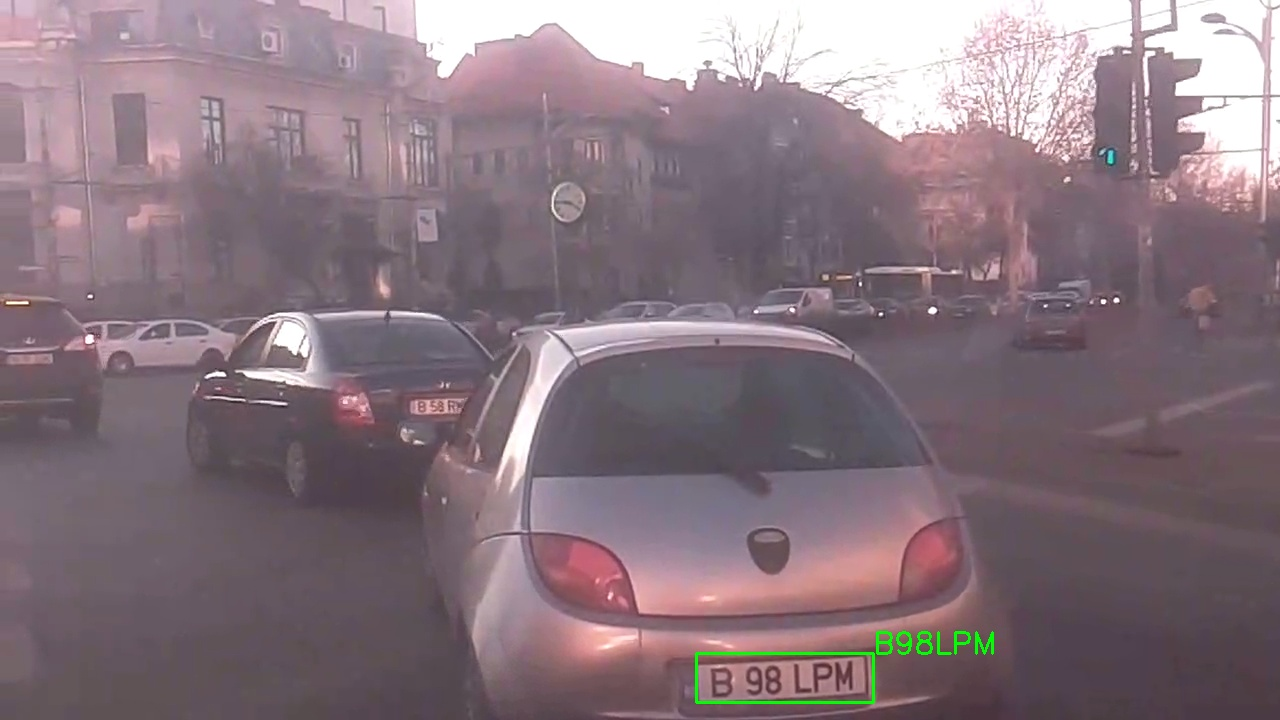license-plate: (696, 653, 874, 703)
